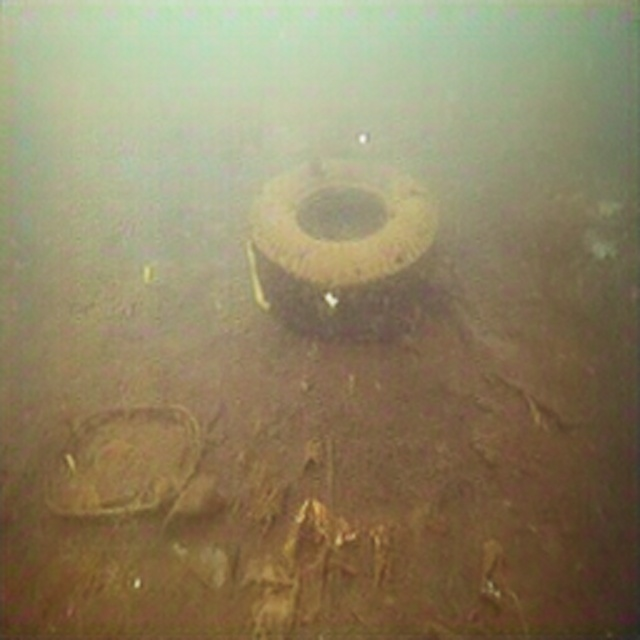mine: (246, 154, 440, 342)
